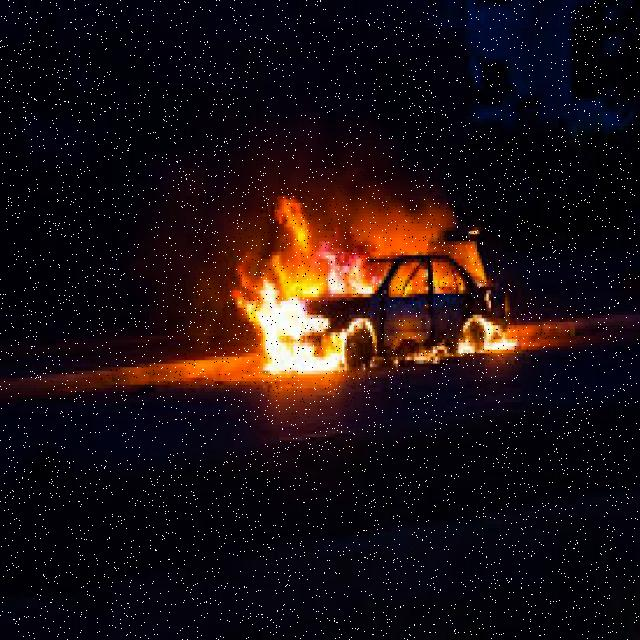fire: (242, 248, 338, 371), (457, 307, 528, 359)
